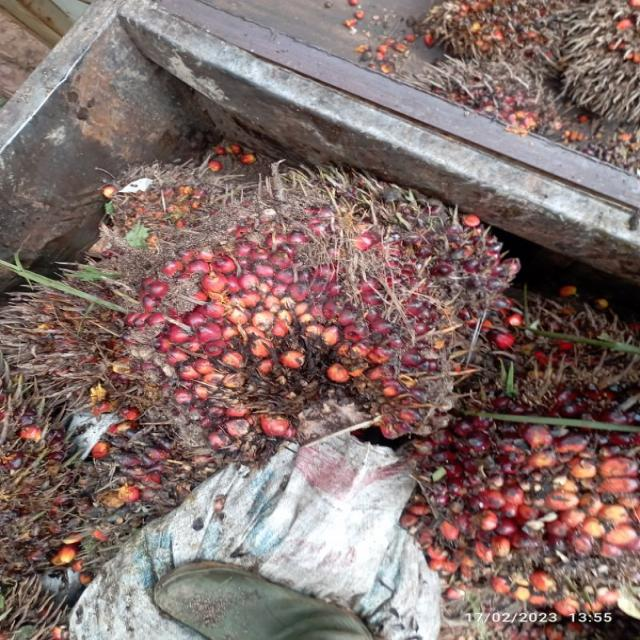fraksi 3: (58, 187, 489, 509), (410, 370, 640, 640)
